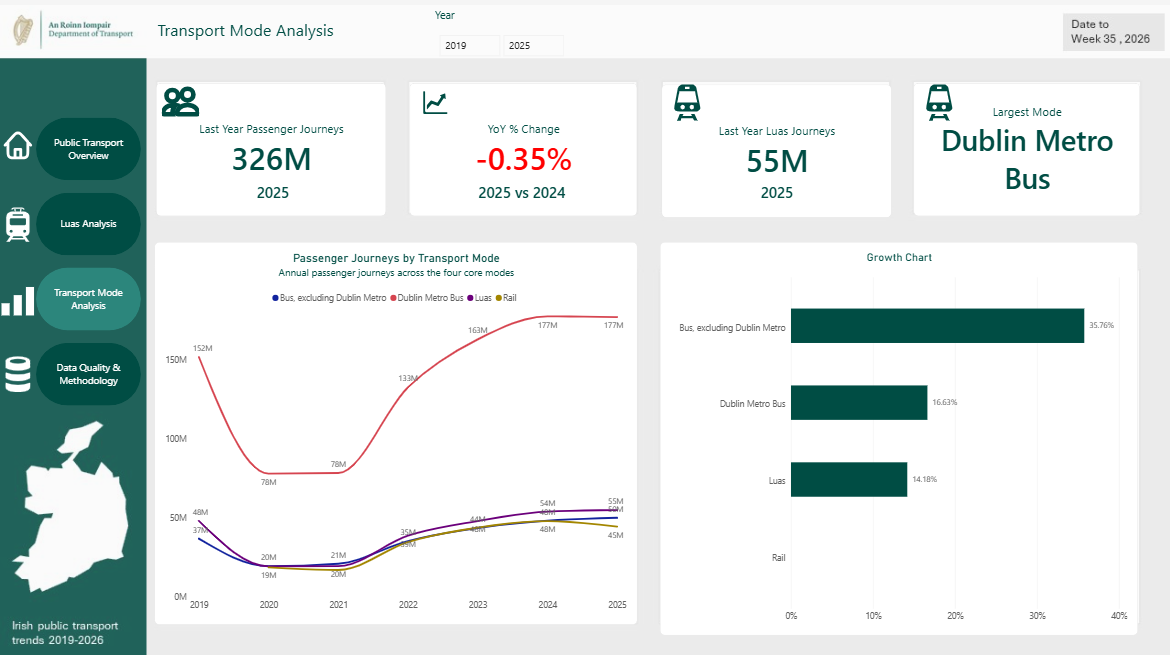

The page's visual inventory and layout, read from the dashboard file:
{"tool":"powerbi","page":{"name":"Transport Mode Analysis","canvas":[1920,1080],"ordinal":2},"visuals":[{"type":"textbox","box":[256.9,23.2,336.2,50.6],"z":0},{"type":"lineChart","title":"Passenger Journeys by Transport Mode","fields":{"Category":["Public_Transport_Combined.Year"],"Series":["Public_Transport_Combined.Mode of Transport"],"Y":["Public_Transport_Combined.Total Passenger Journeys"]},"box":[252.2,387.8,791.6,627.2],"z":1000},{"type":"barChart","title":"Growth Chart","fields":{"Category":["Public_Transport_Combined.Mode of Transport"],"Y":["Public_Transport_Combined.Period Change %"]},"box":[1080.5,387.8,783.6,644.8],"z":2000},{"type":"pageNavigator","box":[58.5,183.5,172.9,474.8],"z":4000},{"type":"image","box":[0,202.2,58.5,55.9],"z":5000},{"type":"image","box":[0,332.5,58.5,55.9],"z":6000},{"type":"image","box":[0,575.9,58.5,59.9],"z":7000},{"type":"image","box":[1.3,454.9,53.2,61.2],"z":8000},{"type":"cardVisual","fields":{"Data":["Public_Transport_Combined.Latest Selected Year Journeys"]},"box":[256.4,127.2,377.3,218.9],"z":9000},{"type":"cardVisual","fields":{"Data":["Public_Transport_Combined.Largest Mode"]},"box":[1496.3,127.7,371.1,218.1],"z":10000},{"type":"cardVisual","fields":{"Data":["Public_Transport_Combined.YoY % KPI"]},"box":[671,128.5,373.1,218.6],"z":11000},{"type":"image","box":[252.6,127.2,85.4,61],"z":12000},{"type":"image","box":[670.7,129.1,84.6,59.4],"z":13000},{"type":"image","box":[1497.6,129.2,84.5,59.6],"z":14000},{"type":"slicer","title":"Year","fields":{"Values":["Public_Transport_Combined.Year"]},"box":[711.8,4.8,287.3,103.7],"z":15000},{"type":"cardVisual","fields":{"Data":["Public_Transport_Combined.Latest Year Label"]},"box":[277.3,277.3,339.8,56.3],"z":16000},{"type":"cardVisual","fields":{"Data":["Public_Transport_Combined.YoY Comparison Label"]},"box":[685.9,277.3,339.8,56.3],"z":17000},{"type":"cardVisual","fields":{"Data":["Public_Transport_Combined.Latest Selected Year Journeys"]},"box":[1084,129.3,377.3,218.9],"z":18000},{"type":"cardVisual","fields":{"Data":["Public_Transport_Combined.Latest Year Label"]},"box":[1102.8,277.3,339.8,56.3],"z":19000},{"type":"image","box":[1084.6,129.1,84.6,59.4],"z":20000}]}

Visuals, with their boxes on the page's 1920x1080 design canvas (x1, y1, x2, y2). These are canvas units, not pixel positions in the 1170x655 screenshot, which may show the page scaled, cropped or inside an application window:
textbox: box(257, 23, 593, 74)
"Passenger Journeys by Transport Mode" lineChart: box(252, 388, 1044, 1015)
"Growth Chart" barChart: box(1080, 388, 1864, 1033)
pageNavigator: box(58, 184, 231, 658)
image: box(0, 202, 58, 258)
image: box(0, 332, 58, 388)
image: box(0, 576, 58, 636)
image: box(1, 455, 54, 516)
cardVisual - Public_Transport_Combined.Latest Selected Year Journeys: box(256, 127, 634, 346)
cardVisual - Public_Transport_Combined.Largest Mode: box(1496, 128, 1867, 346)
cardVisual - Public_Transport_Combined.YoY % KPI: box(671, 128, 1044, 347)
image: box(253, 127, 338, 188)
image: box(671, 129, 755, 188)
image: box(1498, 129, 1582, 189)
"Year" slicer: box(712, 5, 999, 108)
cardVisual - Public_Transport_Combined.Latest Year Label: box(277, 277, 617, 334)
cardVisual - Public_Transport_Combined.YoY Comparison Label: box(686, 277, 1026, 334)
cardVisual - Public_Transport_Combined.Latest Selected Year Journeys: box(1084, 129, 1461, 348)
cardVisual - Public_Transport_Combined.Latest Year Label: box(1103, 277, 1443, 334)
image: box(1085, 129, 1169, 188)
